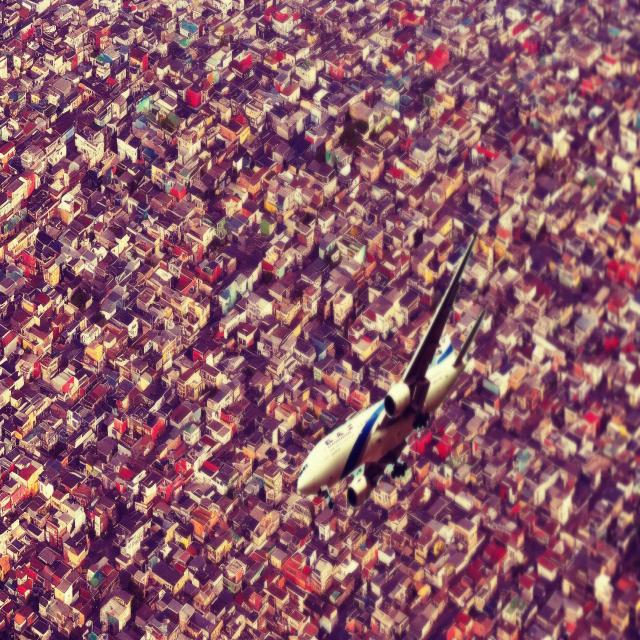airplane: (296, 231, 488, 509)
